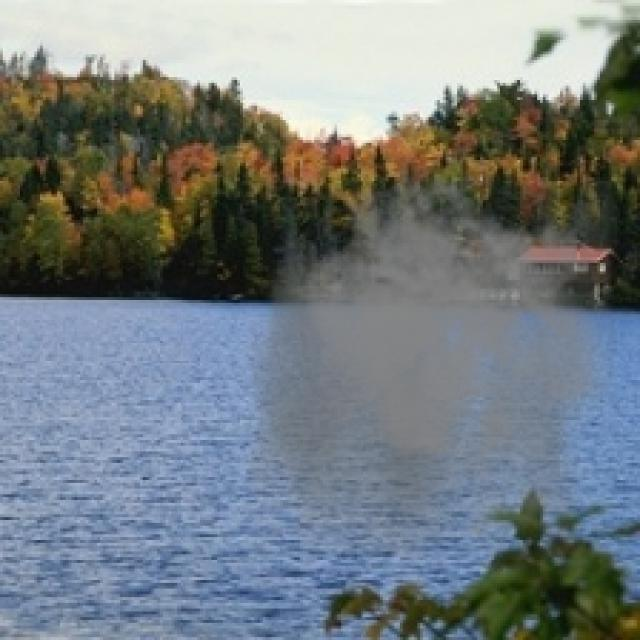smoke: (246, 166, 617, 557)
